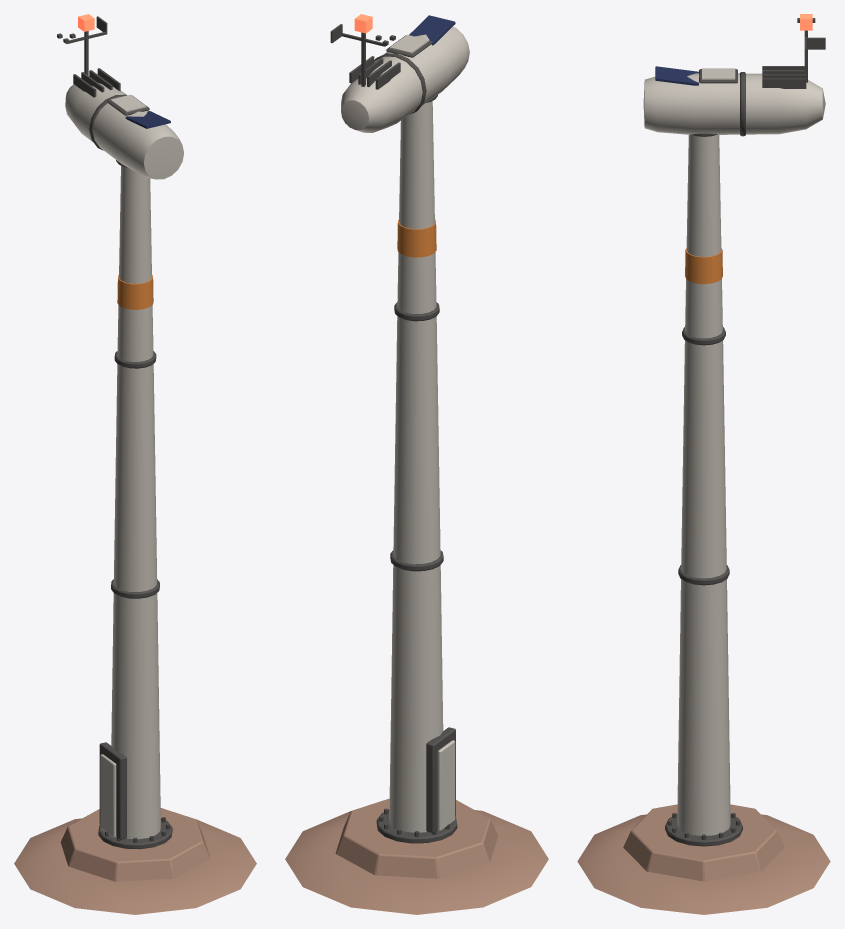
Rendered from turbine.glb.
3 renders of one model, left to right at view 1: azimuth 30°, elevation 25°; view 2: azimuth 150°, elevation 25°; view 3: azimuth 270°, elevation 25°, orthographic. The views are drawn at different scales.
Parts seen in each view (by area): view 1: turbine; view 2: turbine; view 3: turbine.
Part boxes in pixels (x1=…): turbine: x1=14, y1=14, x2=256, y2=914; turbine: x1=285, y1=14, x2=548, y2=914; turbine: x1=577, y1=14, x2=830, y2=914.
Size of the model in its own units: 5.2 by 19.14 by 5.2.
